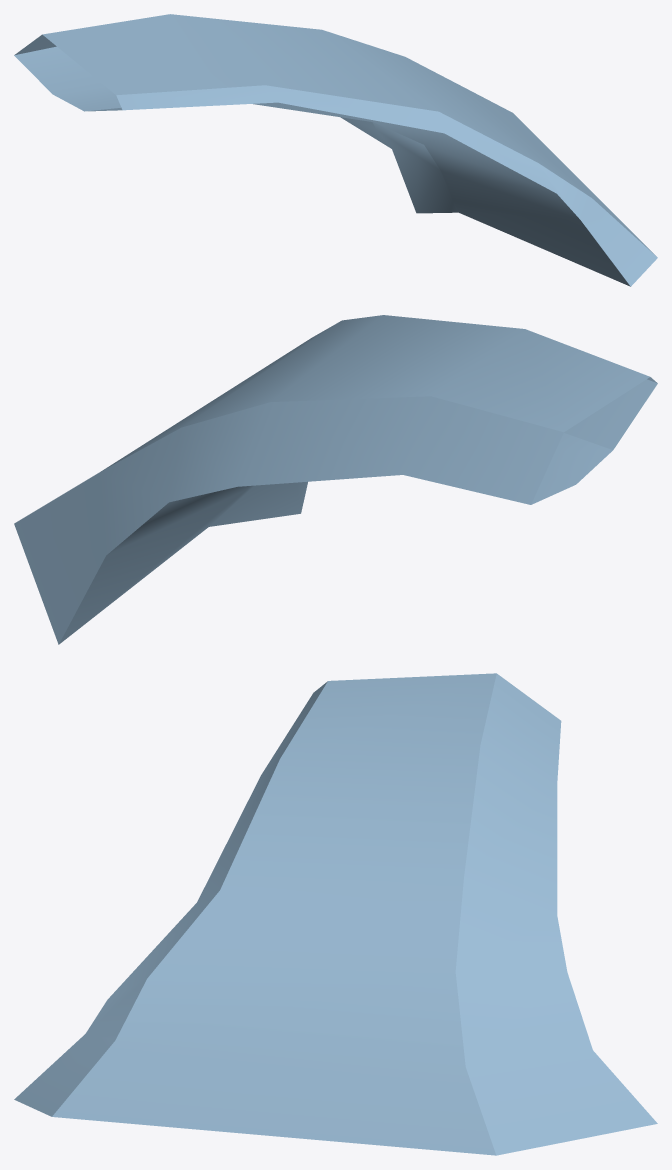
Rendered from probe holder L.FBX.
3 views of the same model, one above another, from view 1: azimuth 30°, elevation 25°; view 2: azimuth 150°, elevation 25°; view 3: azimuth 270°, elevation 25° (orthographic). The views are drawn at different scales.
Parts seen in each view (by area): view 1: Object85; view 2: Object85; view 3: Object85.
Boxes of the visible parts, x1,y1,x2,y2 form: Object85: (14,14,657,286); Object85: (14,315,657,644); Object85: (14,673,657,1155).
Size of the model in its own units: 0.0732 by 0.076 by 0.0325.
